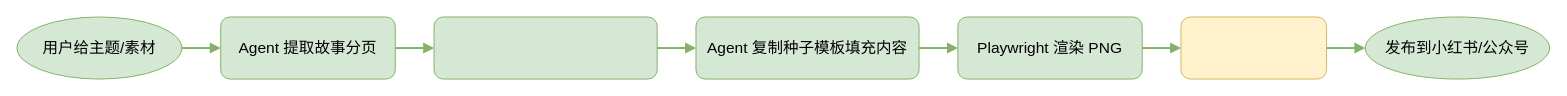
Image size: 1567x96. Some labels were removed from this diagram. The box of each missing label's shape, as (x1, y1, x2, y2) in pixels:
Agent 选风格模式 + 版式 recipe: (433, 16, 657, 79)
用户 review: (1180, 16, 1326, 79)
